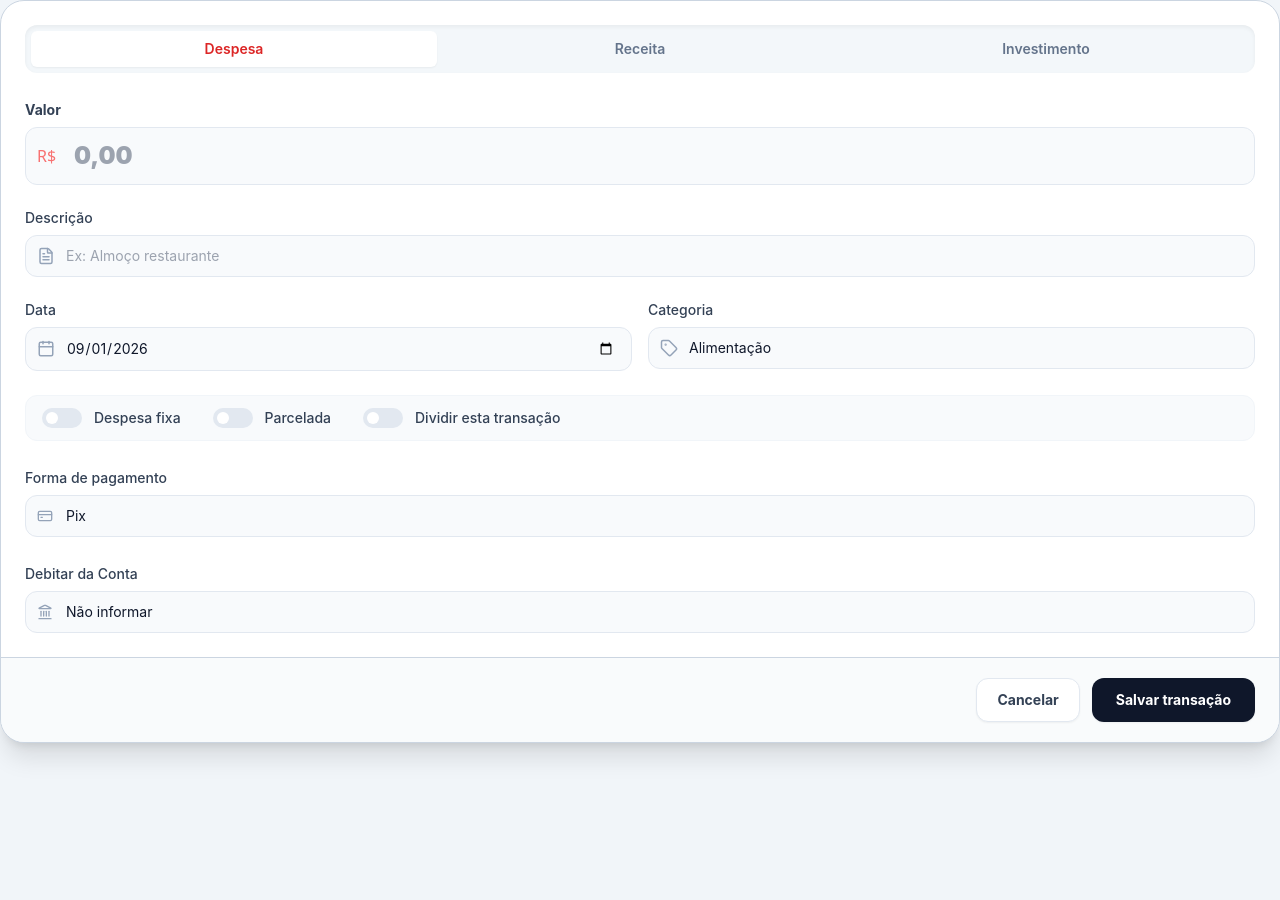
Test case: TransactionForm › encontra contato salvo por nome ou apelido
Click the checkbox labelled "Dividir esta transação" at (462, 418), box [363,408,560,428]
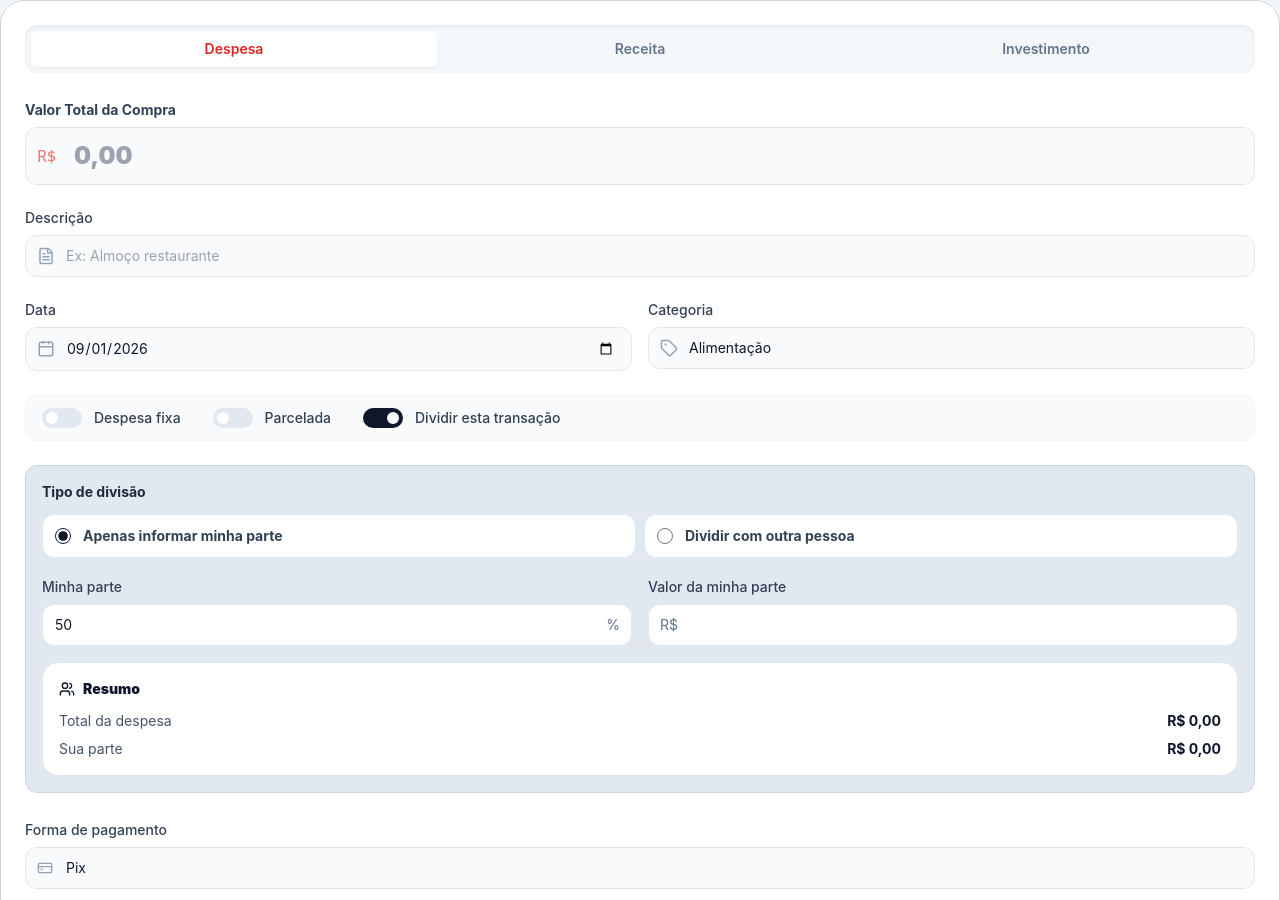
Click the radio button labelled "Dividir com outra pessoa" at (665, 536), box [657,528,673,544]
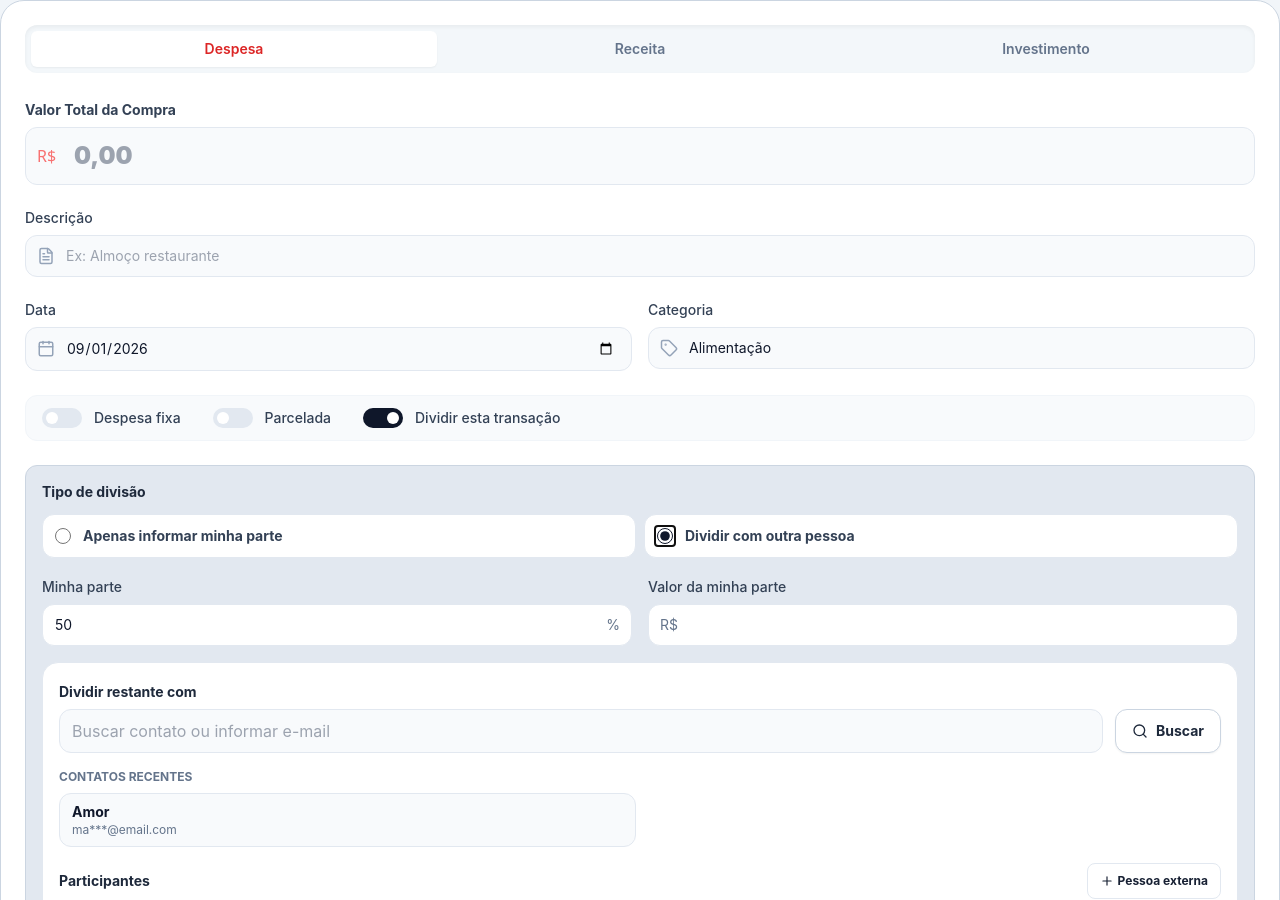
Type "maria" into the field with placeholder "Buscar contato ou informar e-mail" at (581, 731), box [59,709,1103,753]
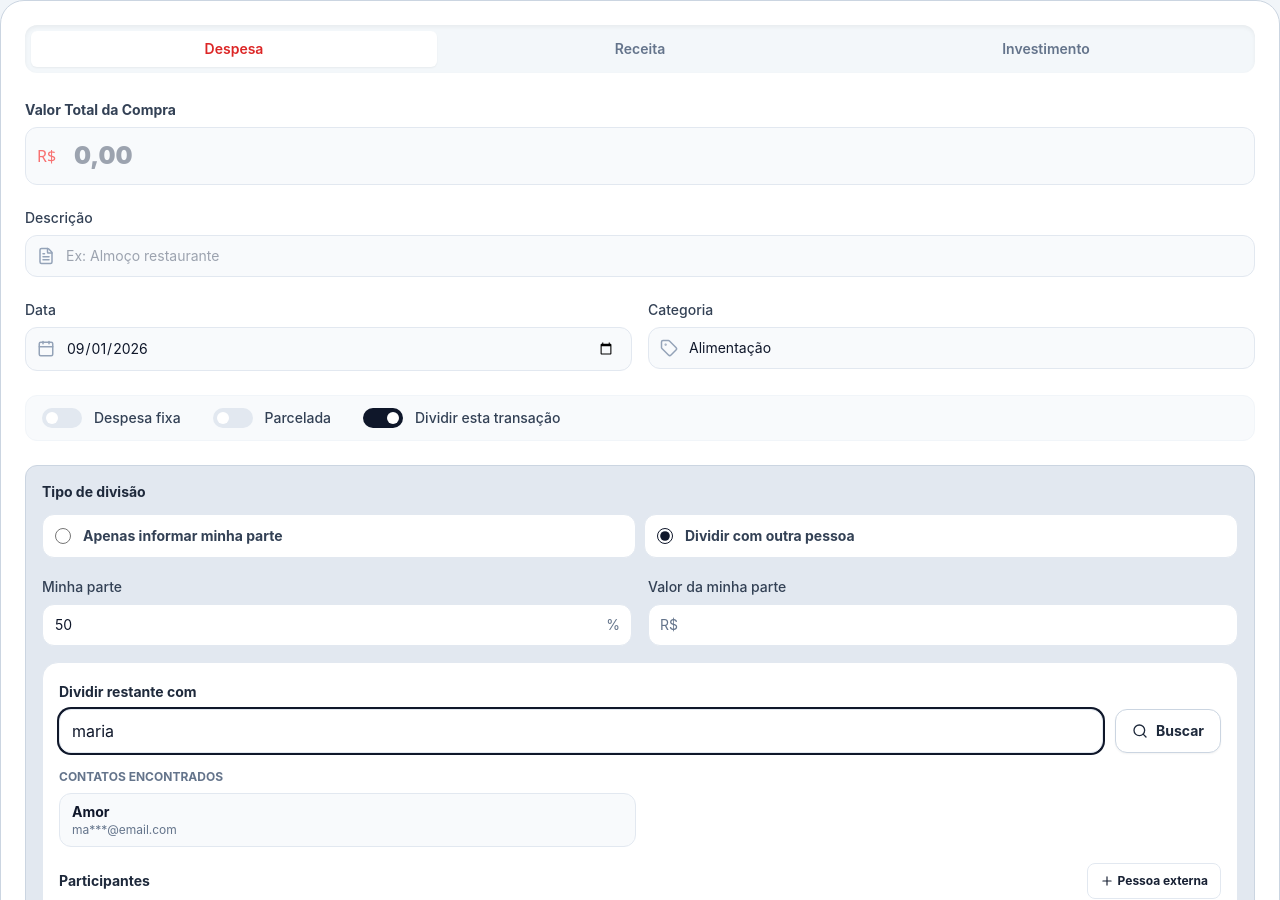
Click the button "Buscar" at (1168, 731), box [1115,709,1221,753]
(page scrolled)
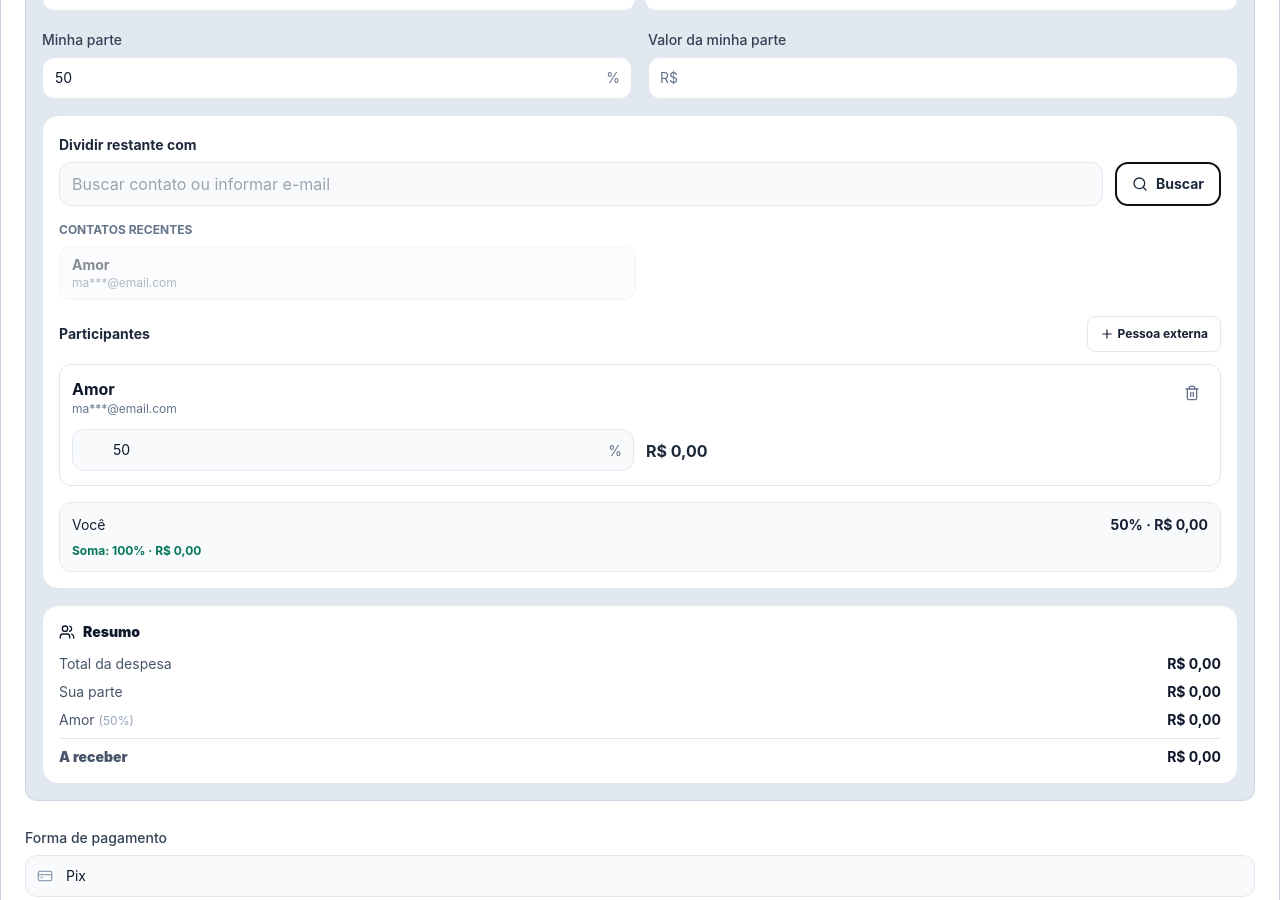
expect the text "Amor" below "Contatos recentes" is shown: met, box [72,256,110,273]
expect the field with placeholder "Buscar contato ou informar e-mail" is empty: met, box [59,162,1103,206]
expect the field named "Percentual de Amor" is shown: met, box [72,429,634,471]
